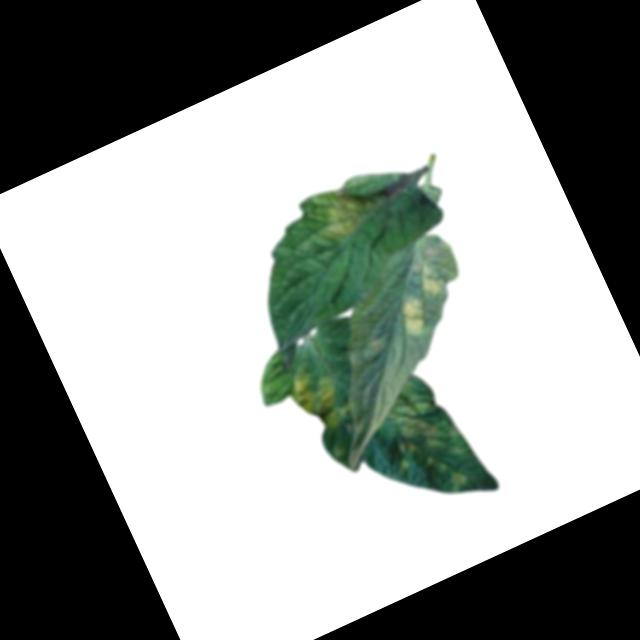Leaf_Mold: (283, 359, 356, 442), (310, 174, 389, 249), (380, 382, 449, 452), (391, 288, 439, 345), (415, 259, 453, 302)
